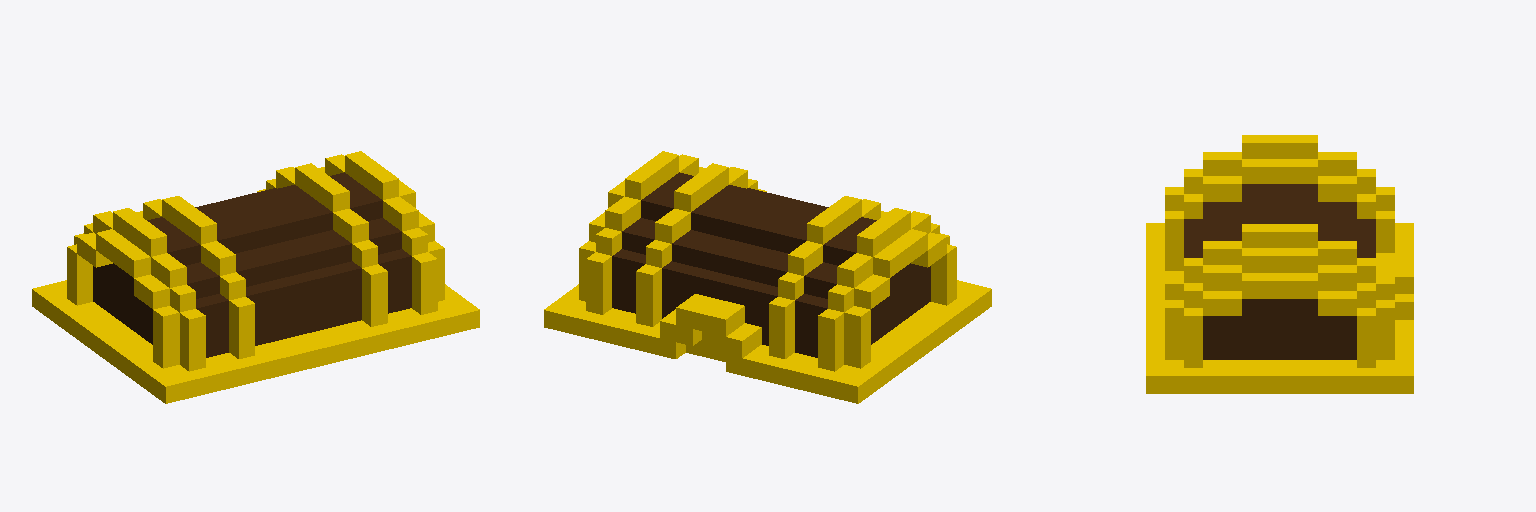
3 views of the same model, side by side, from view 1: azimuth 30°, elevation 25°; view 2: azimuth 150°, elevation 25°; view 3: azimuth 270°, elevation 25° (orthographic).
Visible parts, largest first — view 1: top; view 2: top; view 3: top.
Part boxes in pixels (x1,y1,x2,y2): top: (32, 151, 479, 403); top: (544, 151, 991, 403); top: (1146, 135, 1413, 393).
Bounding box in the file's own units: 19 × 7 × 14.
1 materials, 1 textured.